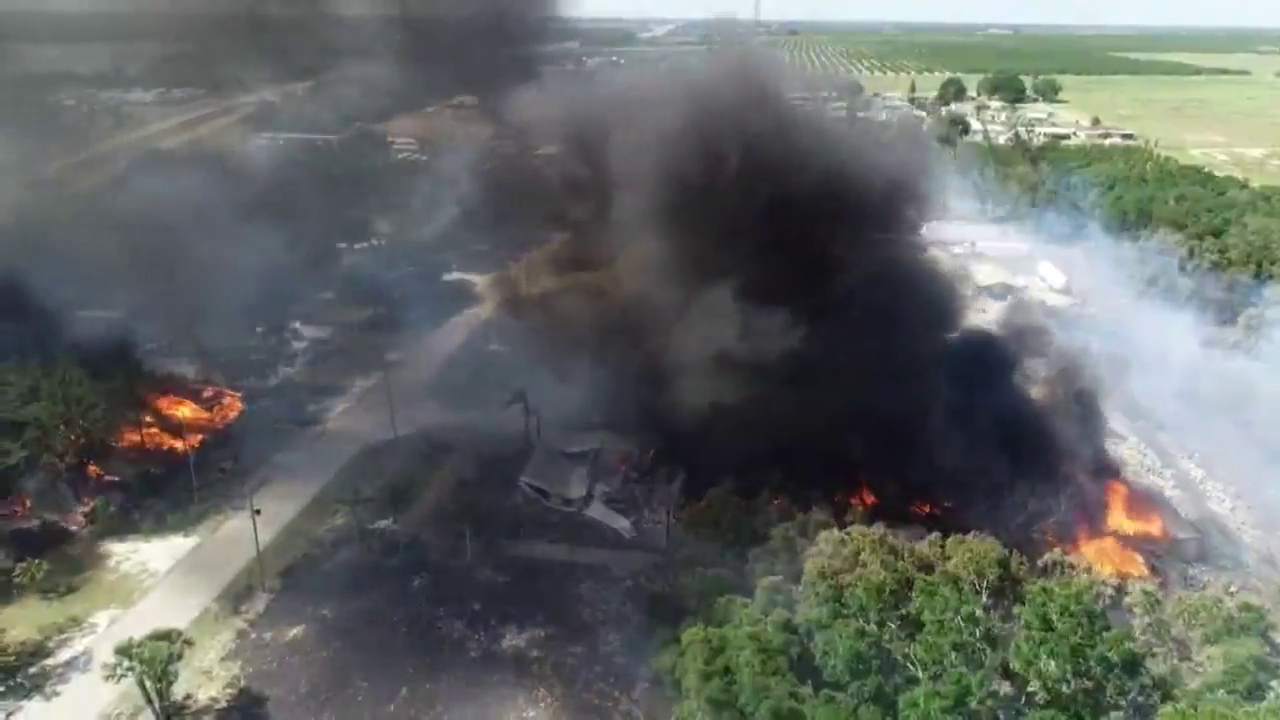forest_fire: (1048, 478, 1168, 576), (1064, 478, 1168, 576), (113, 385, 243, 451), (848, 483, 880, 511), (906, 501, 941, 519)
